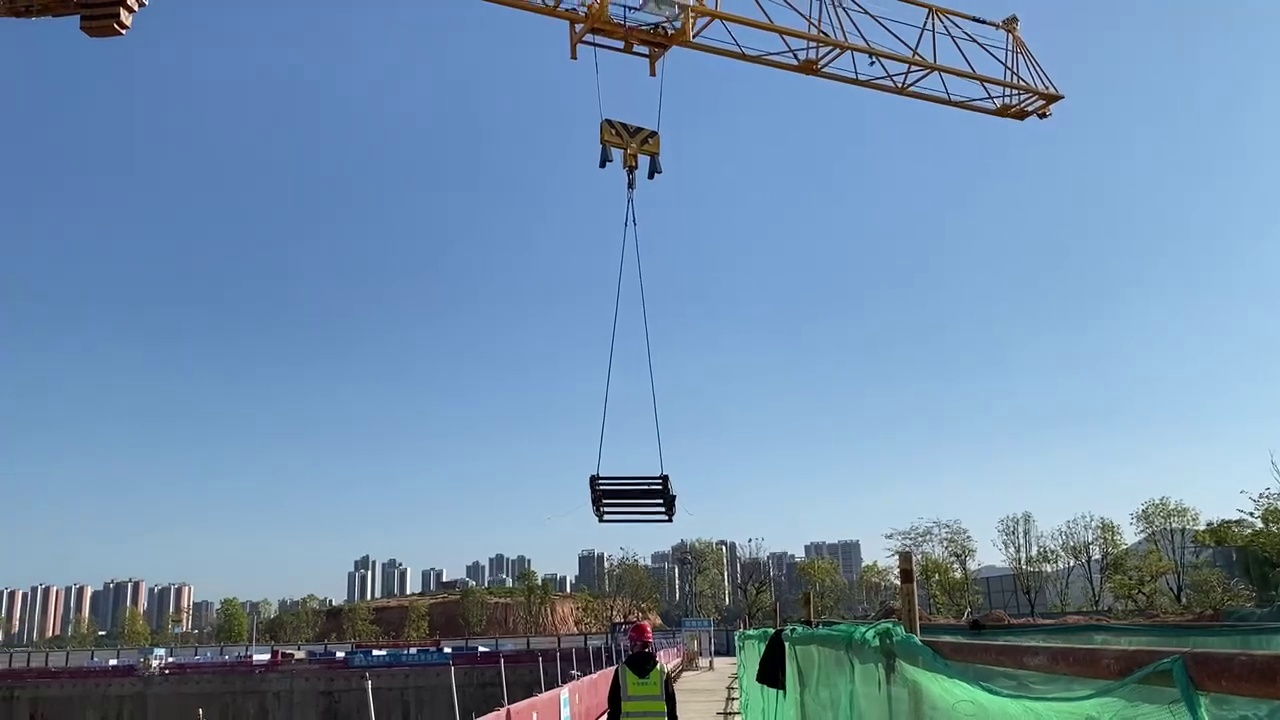helmet: (628, 622, 653, 643)
hook: (595, 115, 666, 183)
person: (604, 619, 680, 720)
vest: (615, 662, 667, 720)
